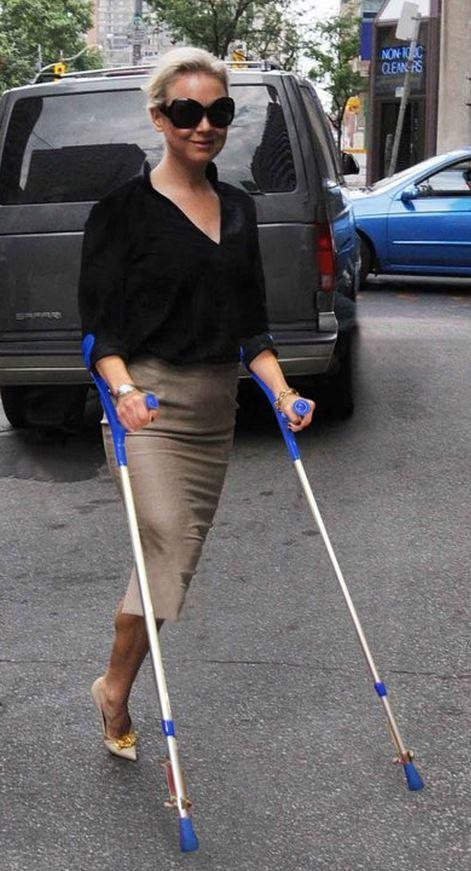crutches: (76, 49, 426, 851)
